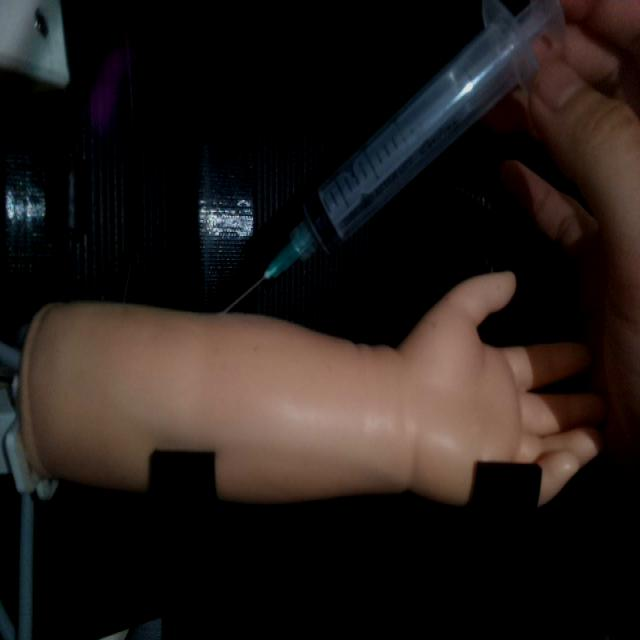Above 30 degrees: (217, 0, 568, 313)
